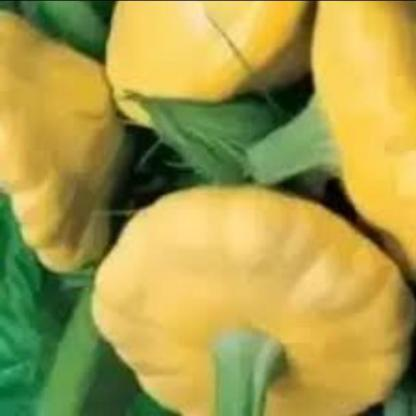squash-patisson: (84, 173, 415, 415), (0, 7, 131, 275), (93, 0, 312, 145), (301, 1, 416, 273)
